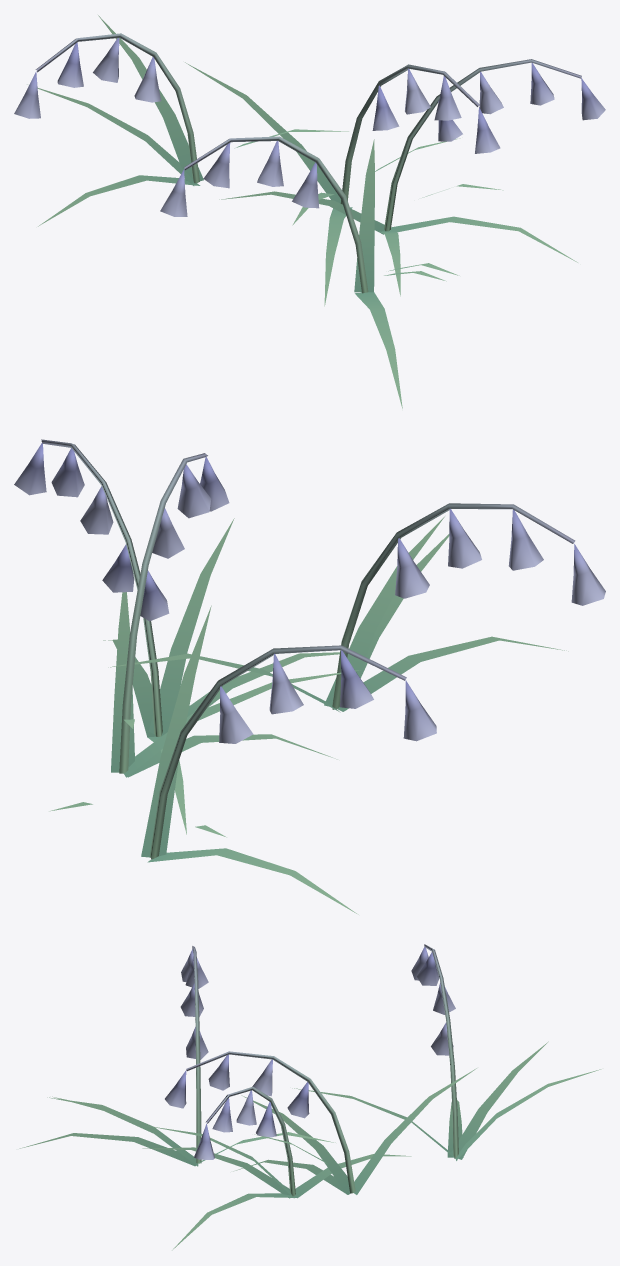
Rendered from bluebell_patch_a_mid.glb.
3 views of the same model, one above another, from view 1: azimuth 30°, elevation 25°; view 2: azimuth 150°, elevation 25°; view 3: azimuth 270°, elevation 25° (orthographic). The views are drawn at different scales.
Visible parts, largest first — view 1: soft; view 2: soft; view 3: soft.
Part boxes in pixels (x1,y1,x2,y2): soft: [14, 15, 605, 408]; soft: [14, 439, 605, 914]; soft: [19, 944, 601, 1250].
Bounding box in the file's own units: 1.1 × 0.4887 × 1.49.
